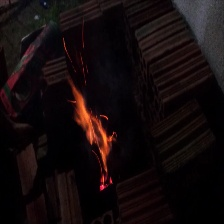fire: (70, 84, 120, 194)
